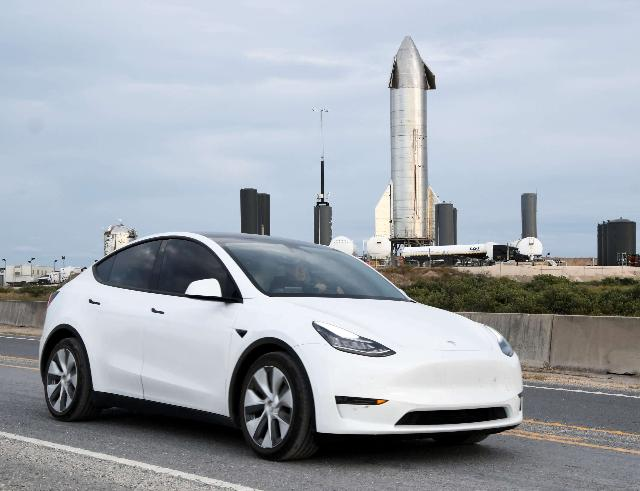tesla: (39, 232, 524, 462)
